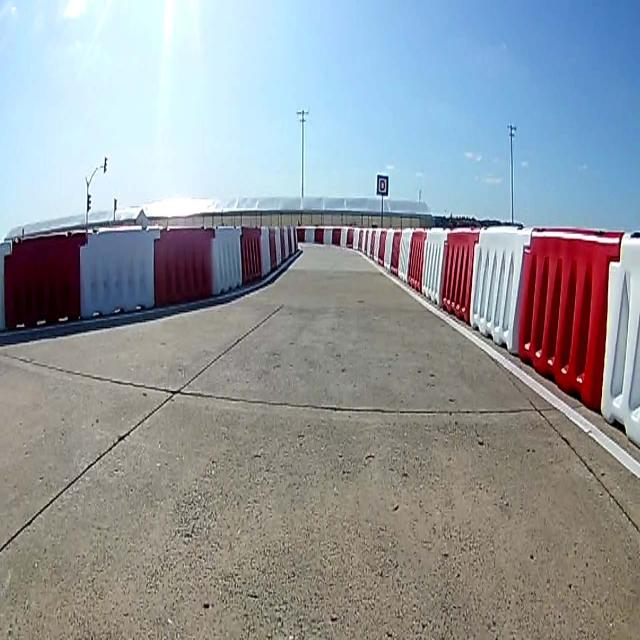durak: (377, 172, 389, 194)
